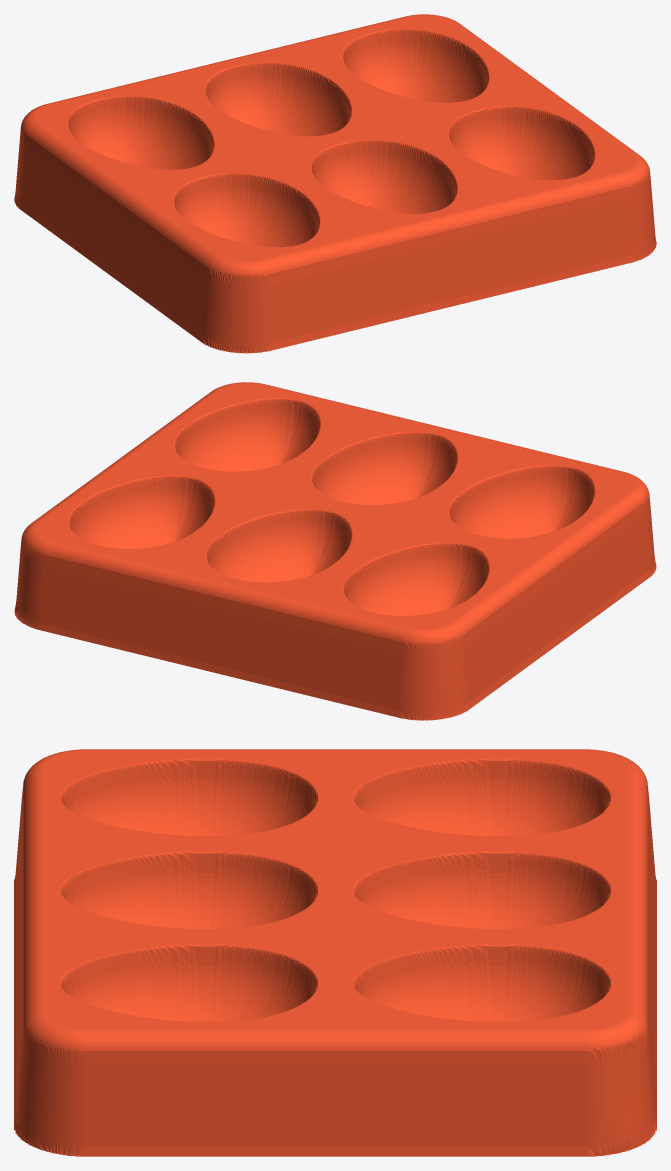
File: mold.glb
The picture shows the model from 3 angles, top to bottom: view 1: azimuth 30°, elevation 25°; view 2: azimuth 150°, elevation 25°; view 3: azimuth 270°, elevation 25°; orthographic projection. The views are drawn at different scales.
Parts seen in each view (by area): view 1: geometry_0; view 2: geometry_0; view 3: geometry_0.
Boxes of the visible parts, x1,y1,x2,y2 form: geometry_0: [14, 14, 656, 353]; geometry_0: [14, 382, 656, 720]; geometry_0: [14, 749, 656, 1156].
Size of the model in its own units: 0.09 by 0.0159 by 0.0808.
